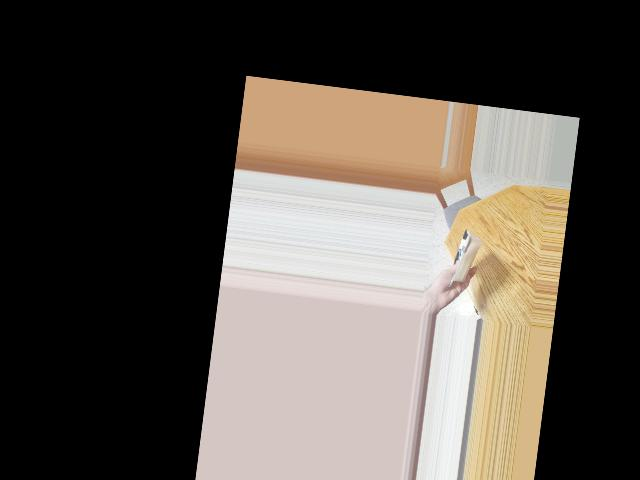cheese: (438, 229, 488, 285)
